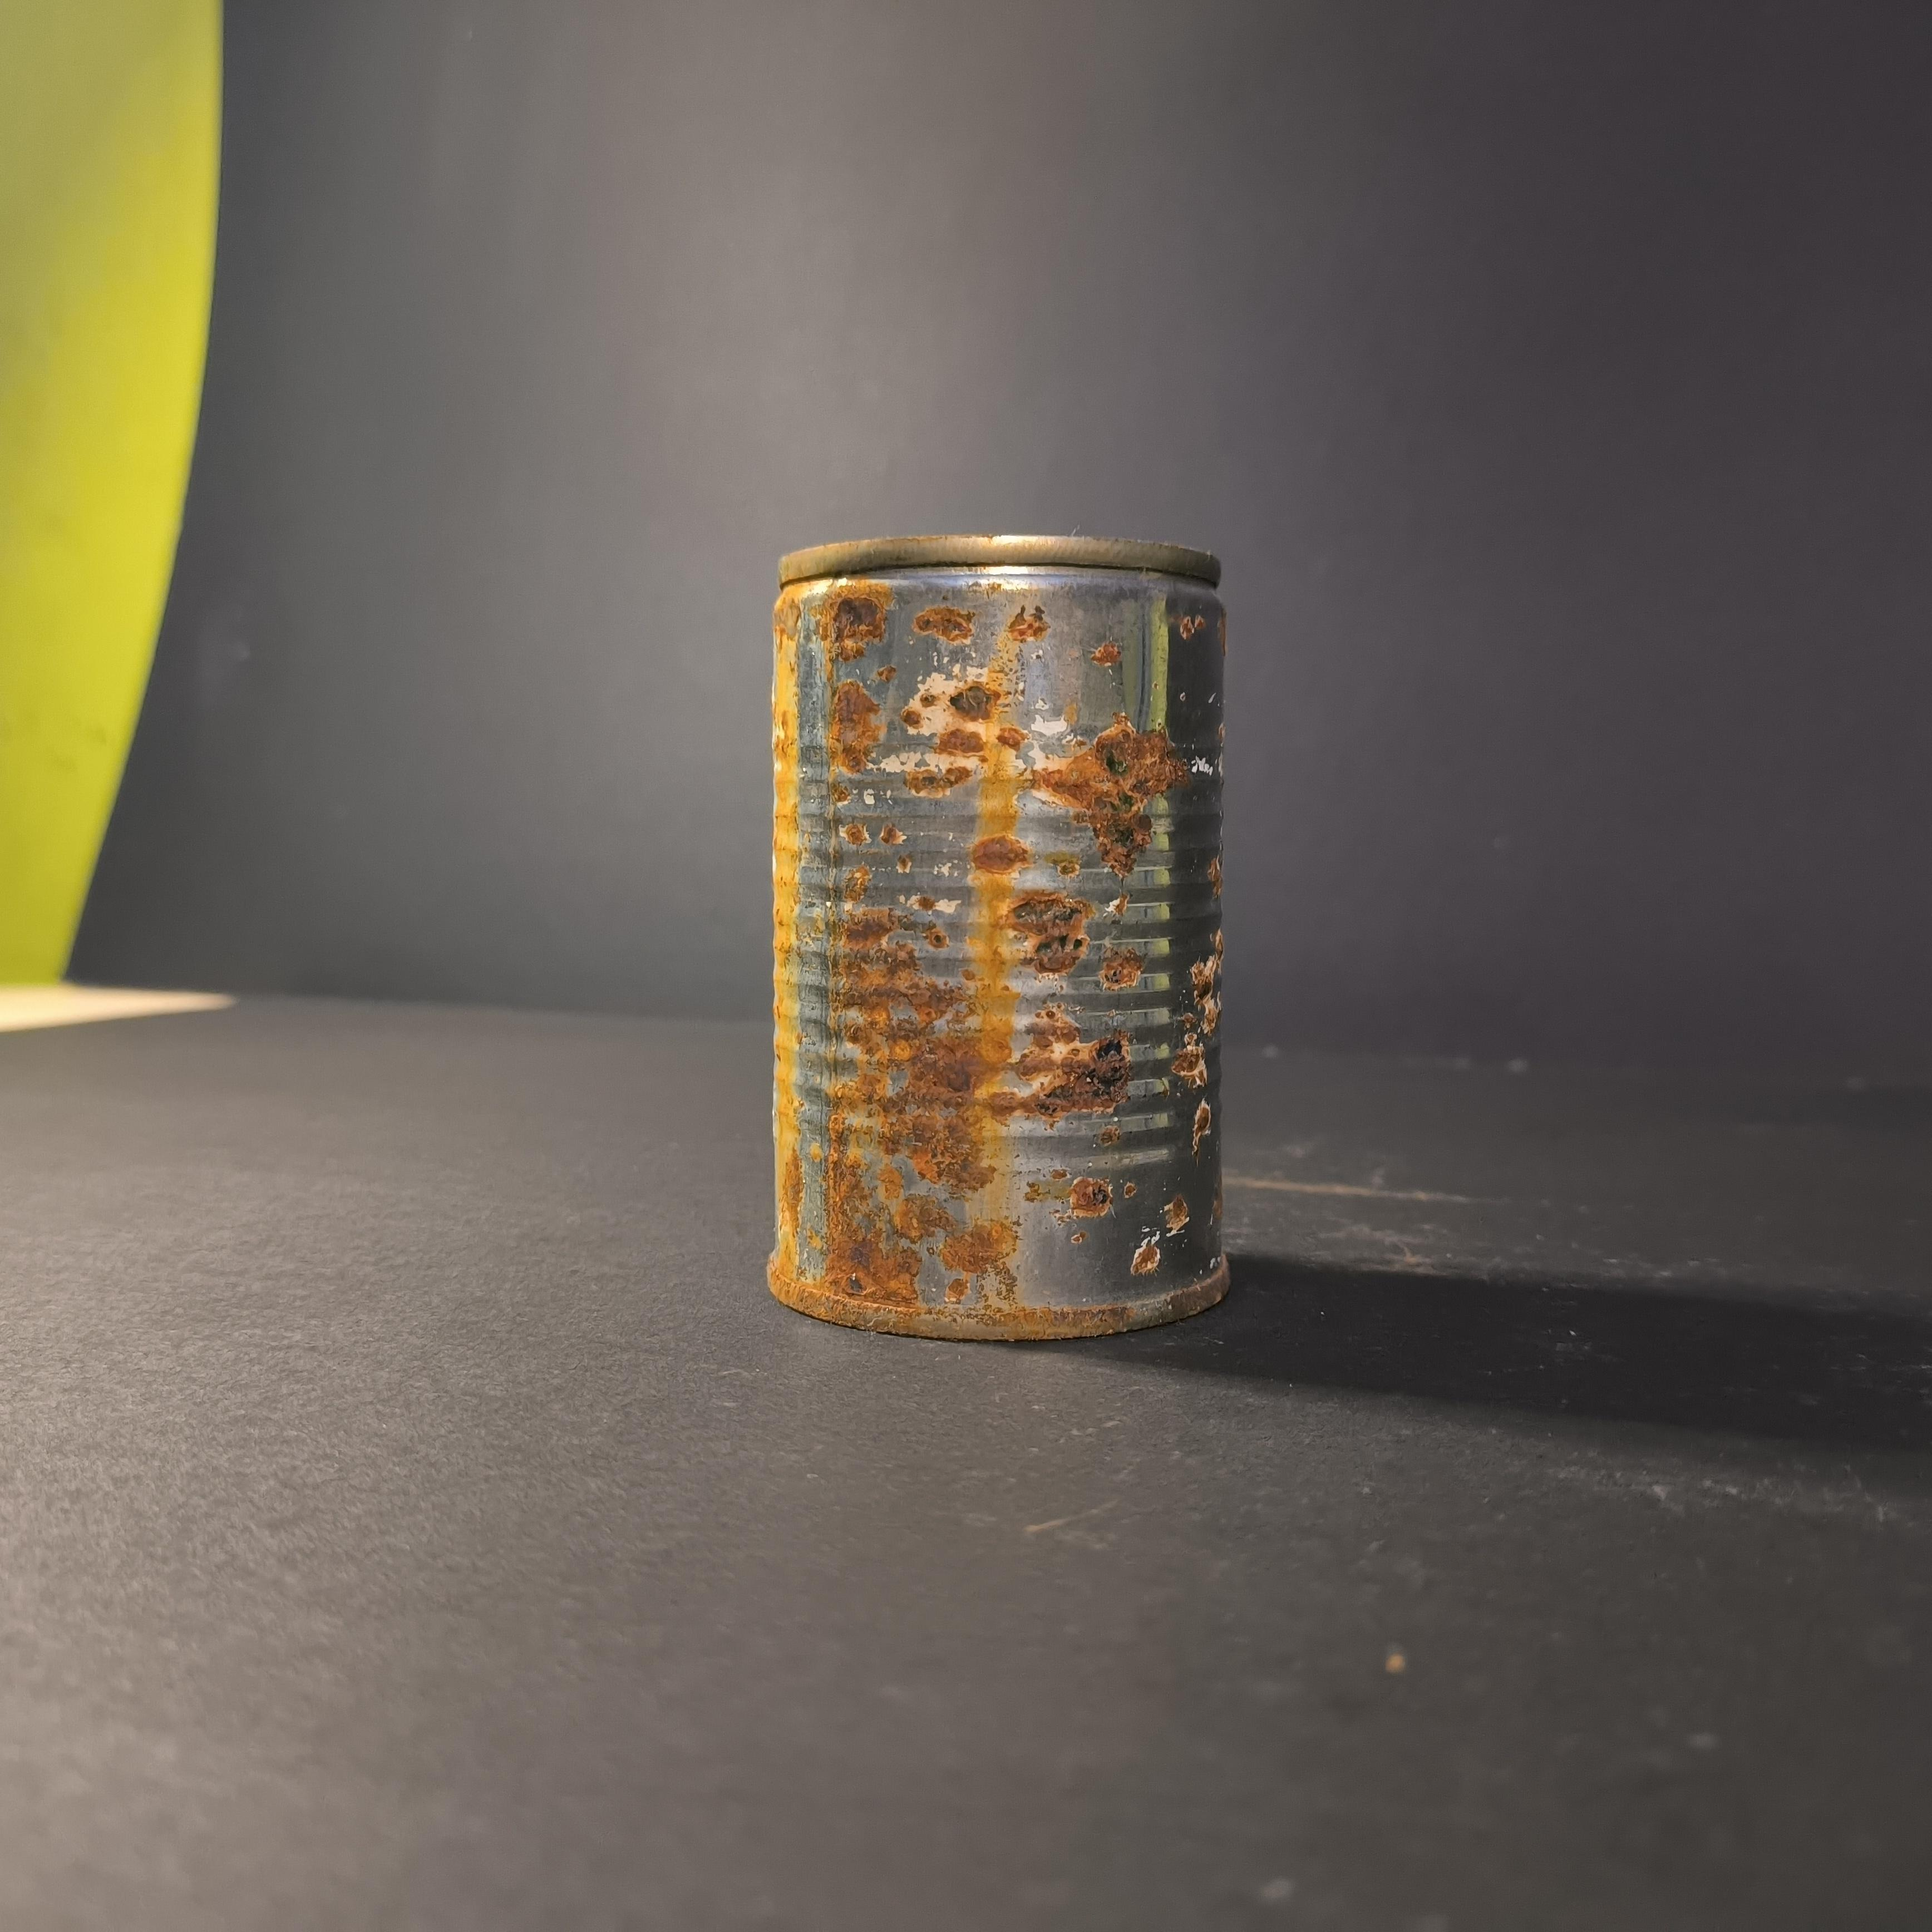Rusted: (757, 518, 1247, 1369)
